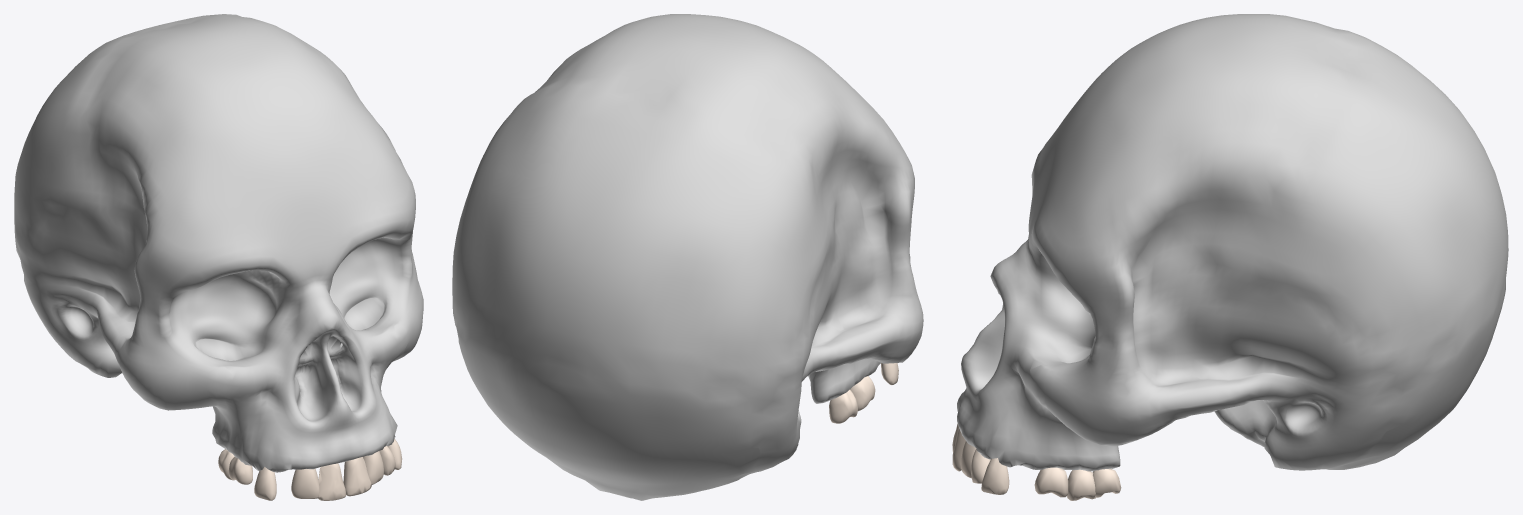
Rendered from crane_low.fbx.
3 views of the same model, side by side, from view 1: azimuth 30°, elevation 25°; view 2: azimuth 150°, elevation 25°; view 3: azimuth 270°, elevation 25° (orthographic). The views are drawn at different scales.
Visible parts, largest first — view 1: Crane_low, Dents_low; view 2: Crane_low, Dents_low; view 3: Crane_low, Dents_low.
Boxes of the visible parts, box(x1,y1,x2,y2) form: Crane_low: box(14, 14, 423, 472); Dents_low: box(218, 439, 402, 500); Crane_low: box(452, 14, 923, 500); Dents_low: box(829, 363, 898, 423); Crane_low: box(957, 14, 1508, 471); Dents_low: box(952, 423, 1121, 500).
Bounding box in the file's own units: 30.72 × 37.02 × 43.56.
